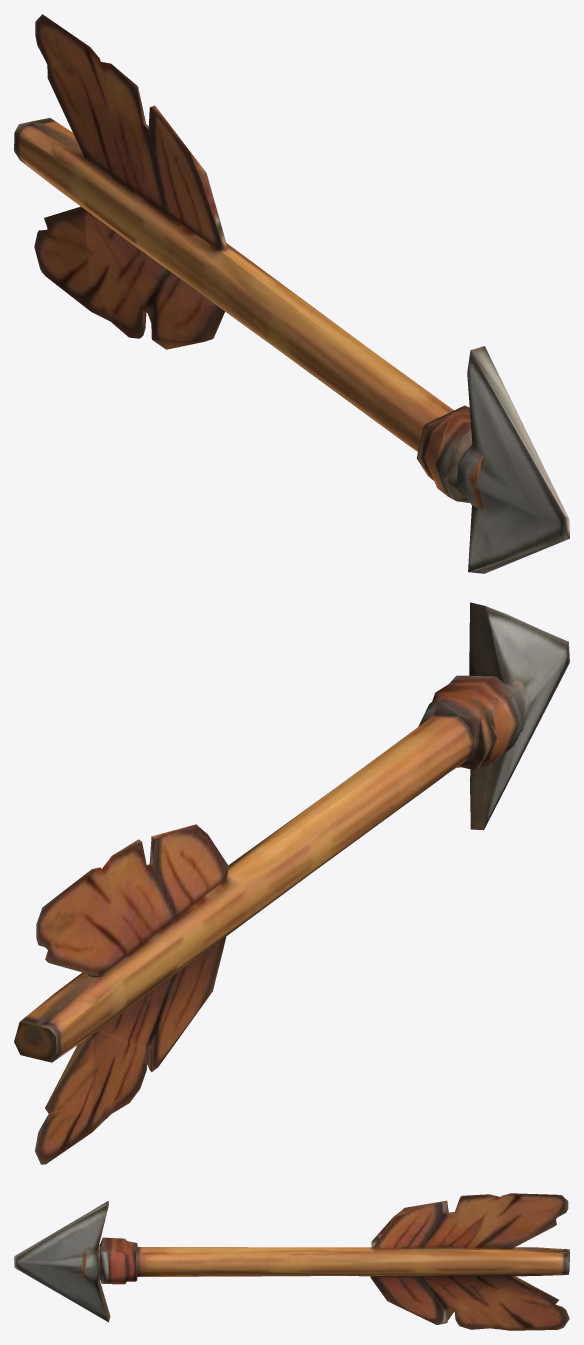
The model's file is proj_arrow.glb.
3 views of the same model, one above another, from view 1: azimuth 30°, elevation 25°; view 2: azimuth 150°, elevation 25°; view 3: azimuth 270°, elevation 25° (orthographic). The views are drawn at different scales.
Visible parts, largest first — view 1: Arrow; view 2: Arrow; view 3: Arrow.
Part boxes in pixels (x1=…): Arrow: x1=14, y1=14, x2=569, y2=573; Arrow: x1=14, y1=602, x2=569, y2=1164; Arrow: x1=14, y1=1193, x2=569, y2=1330.
Size of the model in its own units: 0.1726 by 0.5447 by 2.
Materials: 1 (1 with a texture image).
